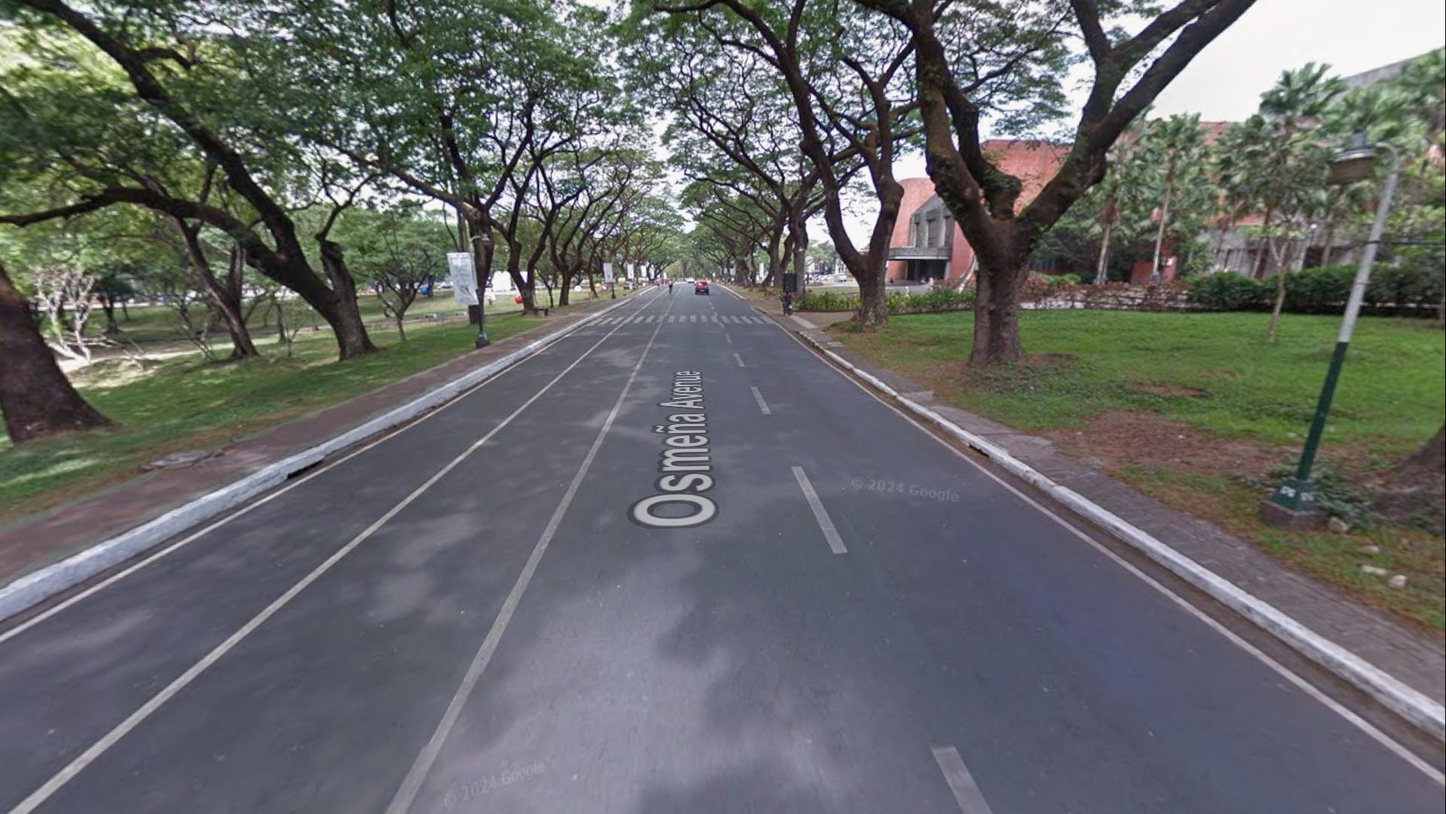pedestrian: (667, 277, 674, 296), (656, 277, 661, 290)
